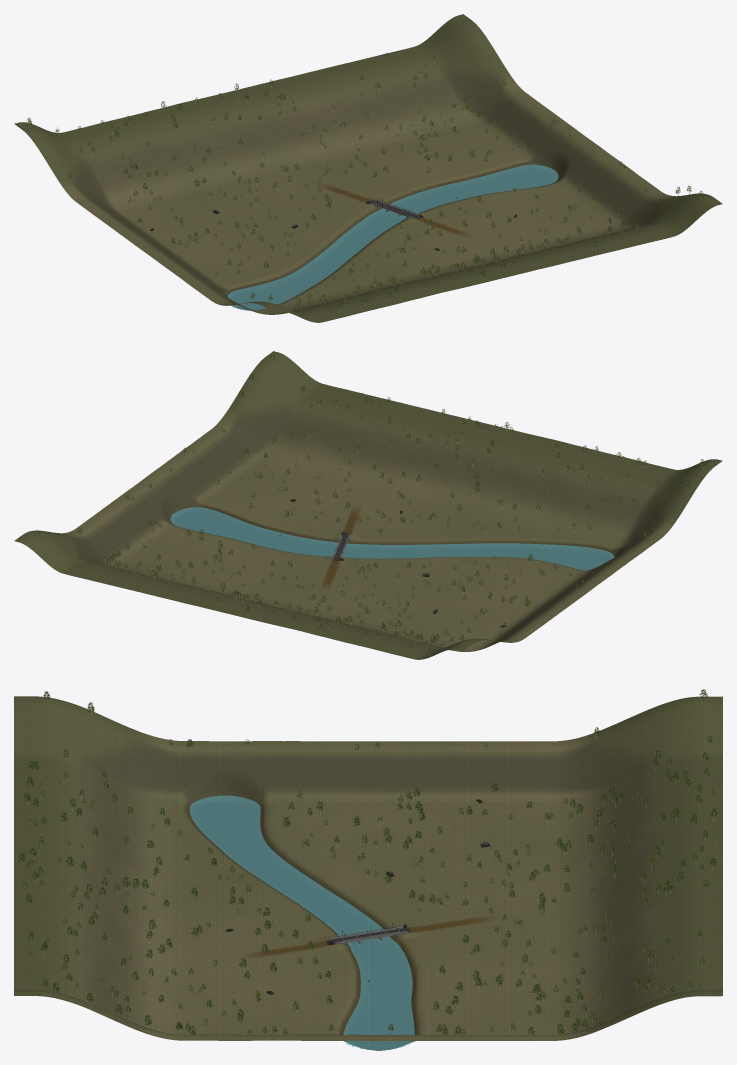
The model's file is protok_map.glb.
3 views of the same model, one above another, from view 1: azimuth 30°, elevation 25°; view 2: azimuth 150°, elevation 25°; view 3: azimuth 270°, elevation 25° (orthographic). The views are drawn at different scales.
Visible parts, largest first — view 1: terrain, water; view 2: terrain, water; view 3: terrain, water.
Part boxes in pixels (x1,y1,x2,y2): terrain: [14, 14, 722, 322]; water: [227, 164, 558, 310]; terrain: [14, 351, 722, 659]; water: [170, 507, 614, 570]; terrain: [14, 696, 722, 1050]; water: [189, 795, 415, 1049].
Bounding box in the file's own units: 500 × 73.08 × 500.
Materials: 18 (17 with a texture image).
